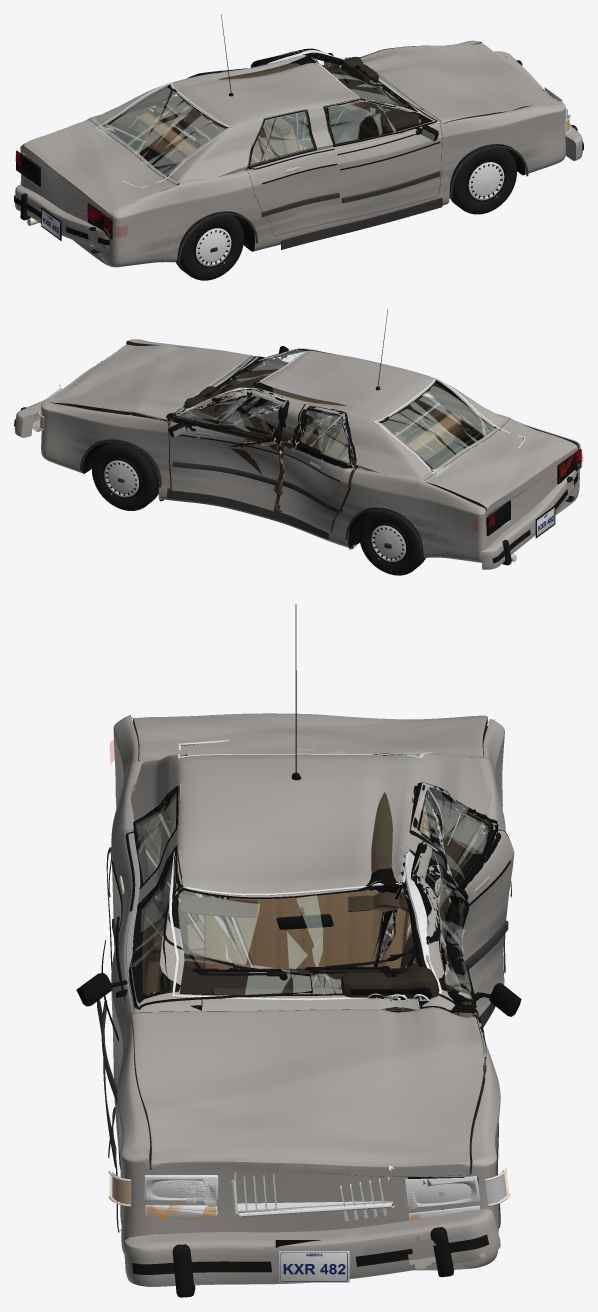
The model's file is sedan87_side_d1.glb.
3 views of the same model, one above another, from view 1: azimuth 30°, elevation 25°; view 2: azimuth 150°, elevation 25°; view 3: azimuth 270°, elevation 25° (orthographic). The views are drawn at different scales.
Parts seen in each view (by area): view 1: Body, Hood, Door_FR, Trunk, Interior, Glass, Door_RR, Wheel_FR_mesh, Wheel_RR_mesh, Trim, Glass_RR, Bumper_R (+6 smaller); view 2: Body, Door_FL, Hood, Trunk, Glass, Door_RL, Interior, Wheel_FL_mesh, Wheel_RL_mesh, Trim, Bumper_R, Glass_FL (+7 smaller); view 3: Body, Hood, Interior, Bumper_F, Trunk, Glass, Ends, Door_RL, Door_FR, Door_FL, Trim_FR, Glass_RL (+9 smaller).
Part boxes in pixels (x1,y1,x2,y2): Body: [20, 40, 565, 267]; Hood: [360, 43, 557, 123]; Door_FR: [323, 99, 442, 220]; Trunk: [22, 119, 176, 218]; Interior: [137, 56, 422, 164]; Glass: [95, 50, 421, 188]; Door_RR: [245, 109, 340, 236]; Wheel_FR_mesh: [449, 144, 516, 214]; Wheel_RR_mesh: [176, 211, 243, 280]; Trim: [177, 14, 528, 263]; Glass_RR: [250, 112, 313, 165]; Bumper_R: [14, 185, 109, 253]; Body: [41, 339, 580, 562]; Door_FL: [166, 389, 289, 511]; Hood: [45, 344, 253, 421]; Trunk: [425, 419, 578, 514]; Glass: [185, 348, 525, 475]; Door_RL: [277, 404, 356, 533]; Interior: [184, 363, 461, 487]; Wheel_FL_mesh: [91, 442, 158, 510]; Wheel_RL_mesh: [358, 507, 425, 575]; Trim: [80, 309, 423, 559]; Bumper_R: [481, 470, 578, 569]; Glass_FL: [173, 389, 288, 442]; Body: [111, 715, 505, 1270]; Hood: [131, 1007, 484, 1176]; Interior: [160, 790, 442, 1002]; Bumper_F: [124, 1209, 500, 1297]; Trunk: [133, 713, 487, 760]; Glass: [169, 740, 441, 1000]; Ends: [108, 726, 510, 1282]; Door_RL: [409, 782, 514, 1016]; Door_FR: [111, 845, 201, 1142]; Door_FL: [411, 841, 477, 1014]; Trim_FR: [76, 846, 312, 1105]; Glass_RL: [410, 782, 496, 888].
Size of the model in its own units: 4.93 by 2.1 by 1.92.
Materials: 33 (5 with a texture image).
